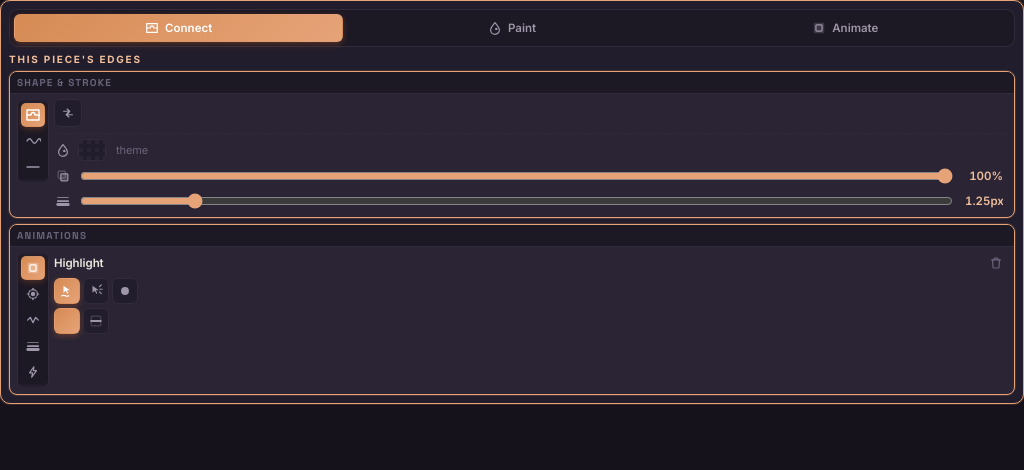
Scenario: WorkflowEditUi › Animate mode shows the cell-effects picker when a piece is selected
Click the tab "Animate" at (845,28), box [681,14,1010,42]
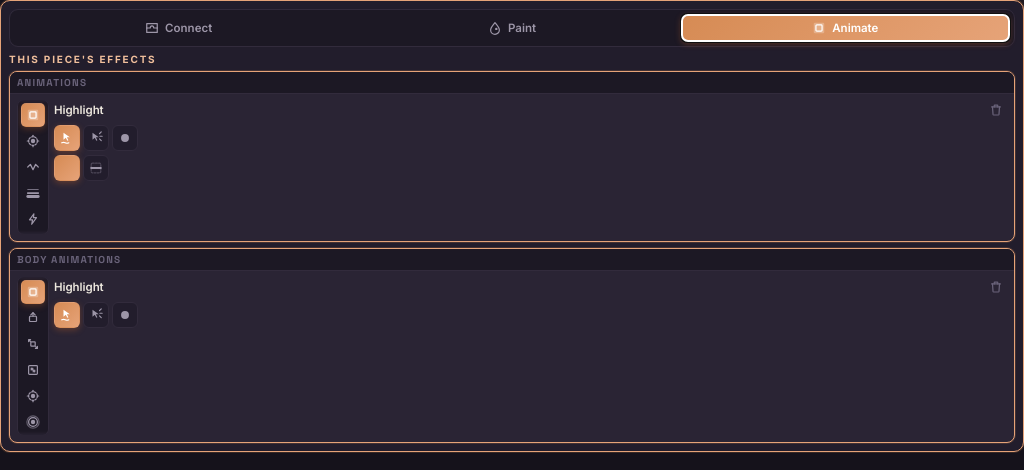
Result: the text "this piece's effects" is shown at [9,53,156,65]
